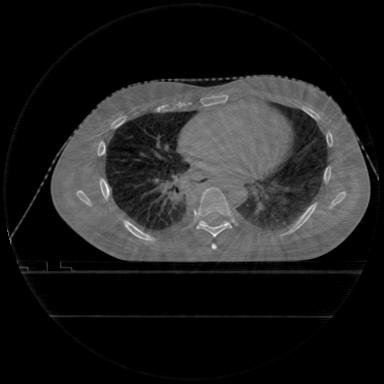body: (52, 76, 369, 261)
cord: (195, 188, 238, 249)
paru kanan: (106, 111, 195, 229)
paru kiri: (236, 103, 328, 229)
